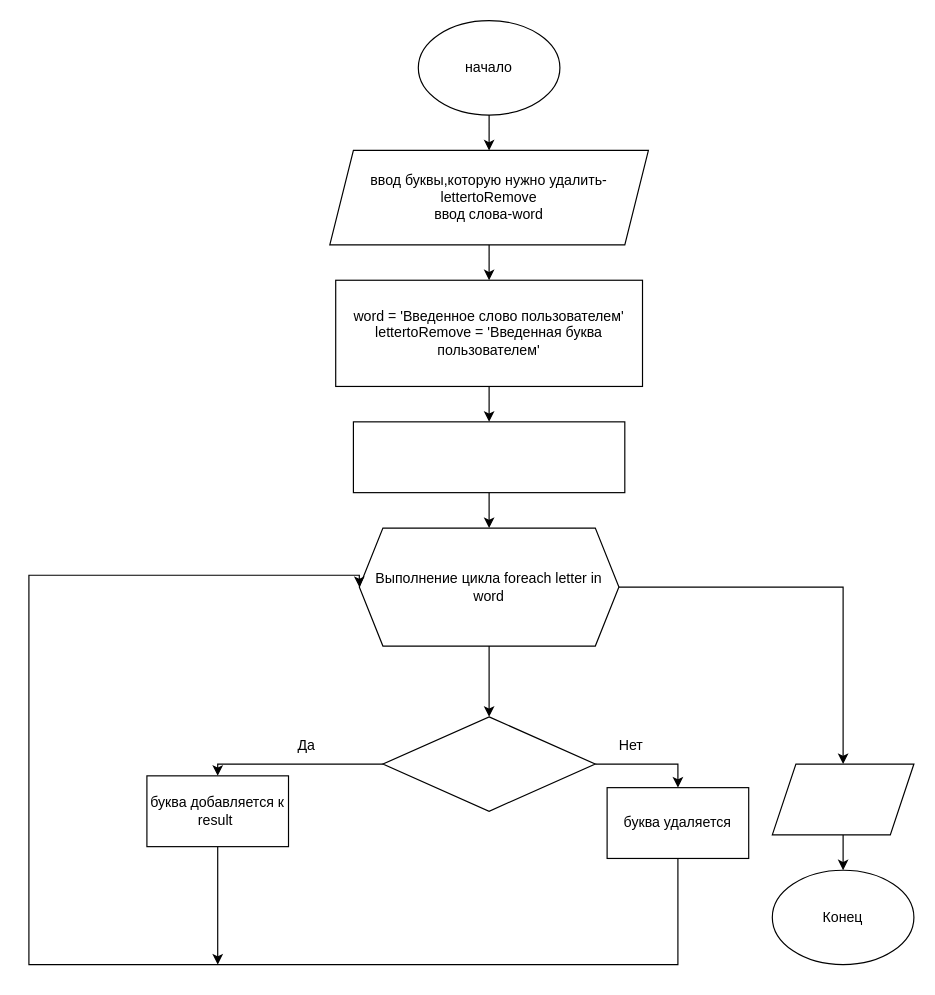
Some shapes in this 935 by 995 pixel diagram are drawn without their labels. The shapes that lost their labels are listed below. From the top down, each one's box as (x1, y1, x2, y2) in pixels, then its label:
(352, 421, 625, 493): Создаем объект `StringBuilder` для хранения результата с именем result
(382, 716, 595, 811): if letter != lettertoRemove
(771, 763, 914, 835): вывод result
